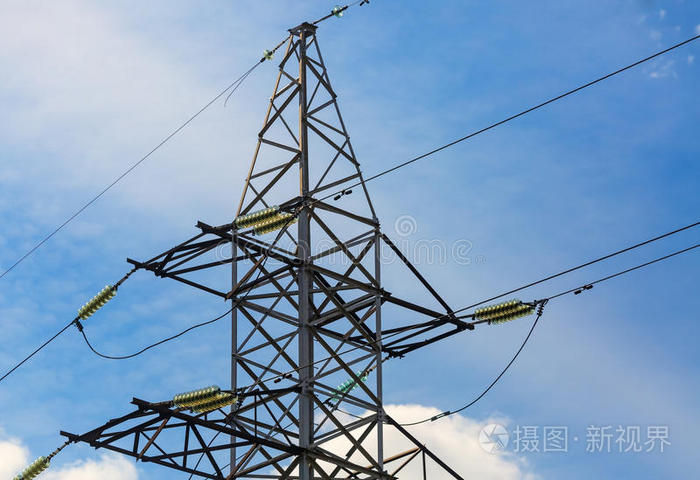insulator: (472, 300, 535, 328), (232, 210, 297, 236), (177, 387, 238, 411), (76, 287, 116, 320), (14, 455, 51, 480)
